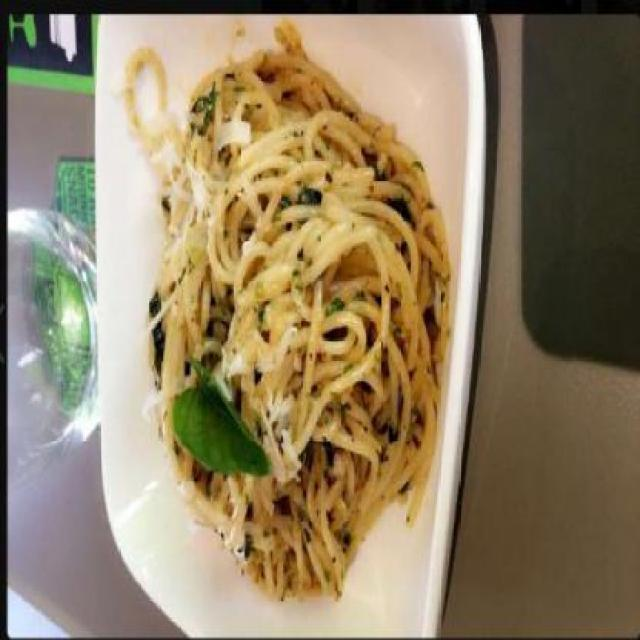Oil pasta: (119, 37, 486, 634)
